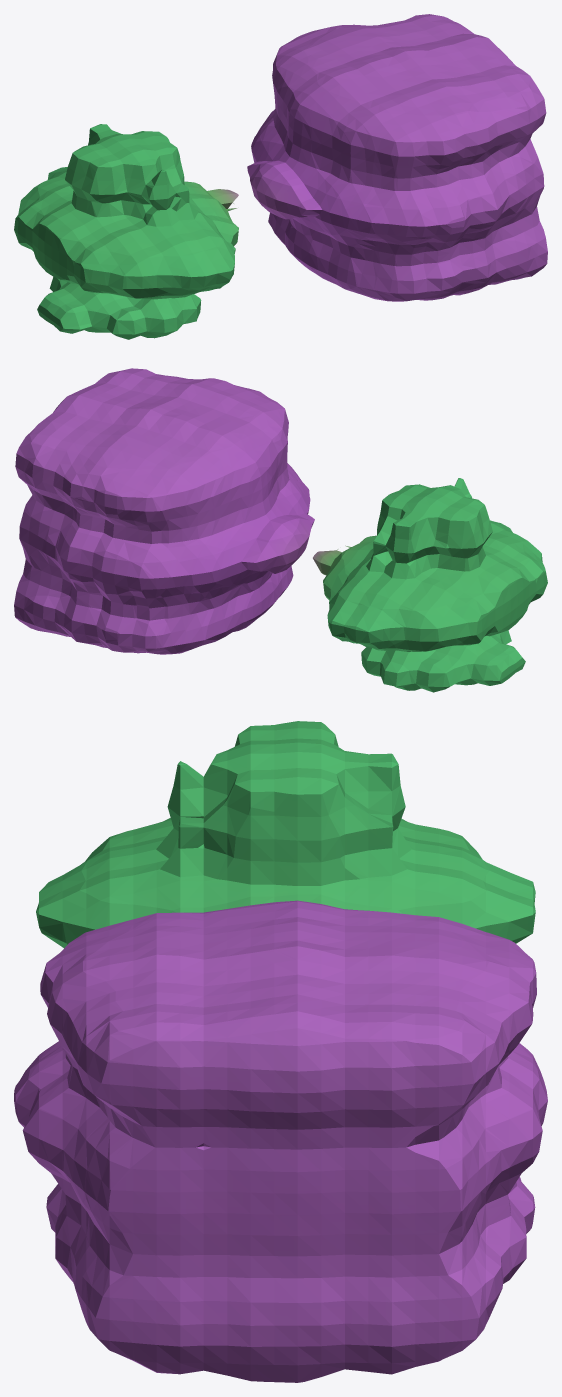
3 renders of one model, top to bottom at view 1: azimuth 30°, elevation 25°; view 2: azimuth 150°, elevation 25°; view 3: azimuth 270°, elevation 25°, orthographic. The views are drawn at different scales.
Visible parts, largest first — view 1: geometry_0; view 2: geometry_0; view 3: geometry_0.
Boxes of the visible parts, x1,y1,x2,y2 form: geometry_0: (14, 14, 547, 339); geometry_0: (14, 368, 547, 692); geometry_0: (14, 721, 547, 1382).
Bounding box in the file's own units: 1.62 × 0.739 × 0.9664.
